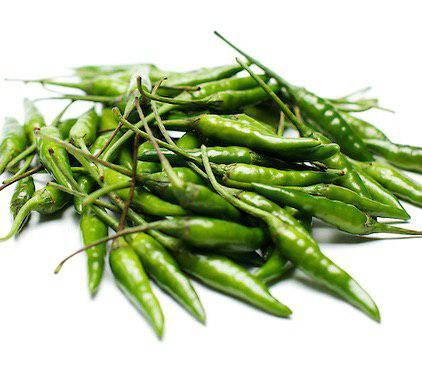lada hijau: (260, 217, 384, 321), (174, 238, 280, 312), (282, 79, 372, 163), (181, 107, 327, 158), (260, 182, 384, 242), (103, 232, 163, 330), (76, 189, 122, 310), (206, 155, 350, 183), (166, 212, 266, 252), (69, 101, 107, 153)
